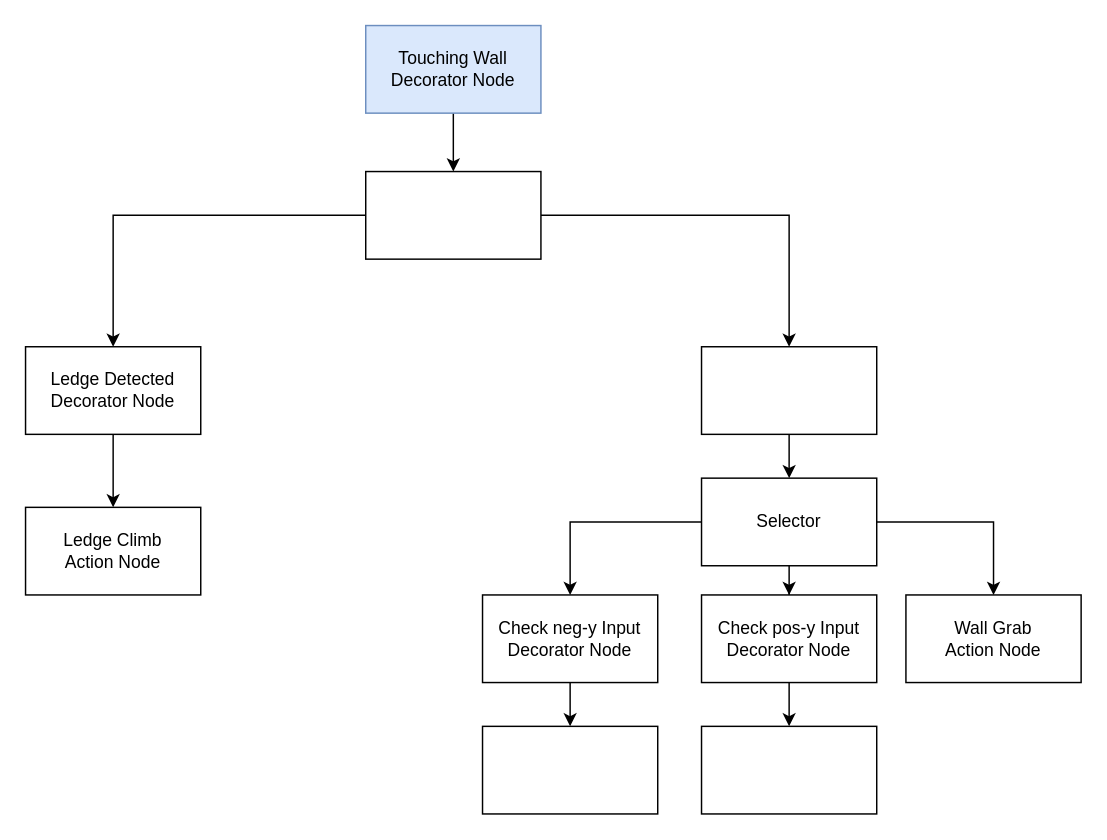
Image size: 1107x840. Some labels were removed from this diagram. Each missing label, with the centre of its shape:
Check Grab Input Decorator Node: pixel 788 389
Selector Node: pixel 452 214
Wall Climb Action Node: pixel 788 769
Wall Slide Action Node: pixel 569 769
